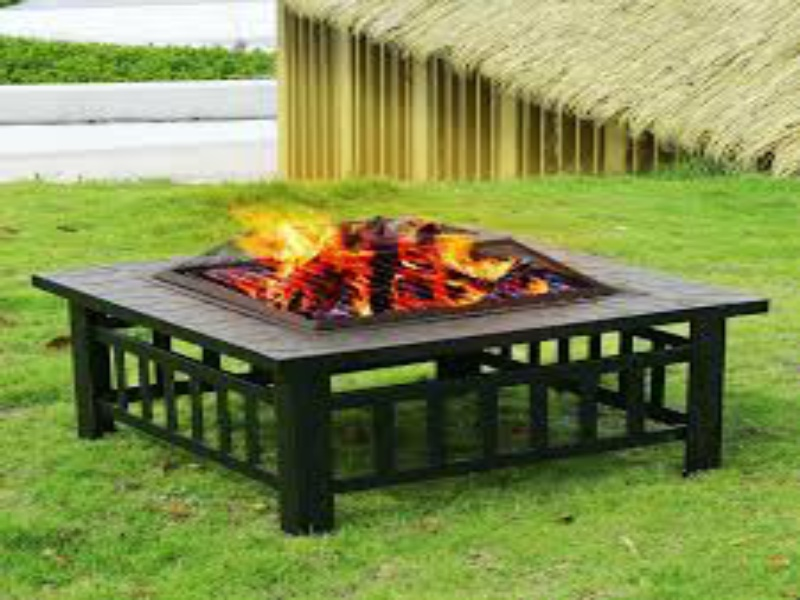fire: (239, 201, 374, 294), (400, 223, 519, 301)
